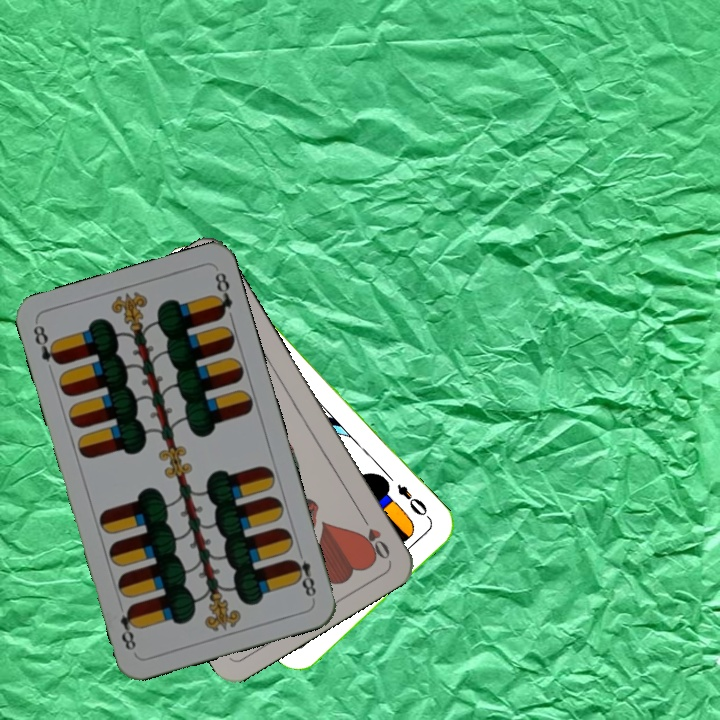E8: (287, 544, 319, 599), (29, 321, 64, 368)
EO: (393, 479, 434, 523)
HO: (356, 509, 393, 562)
